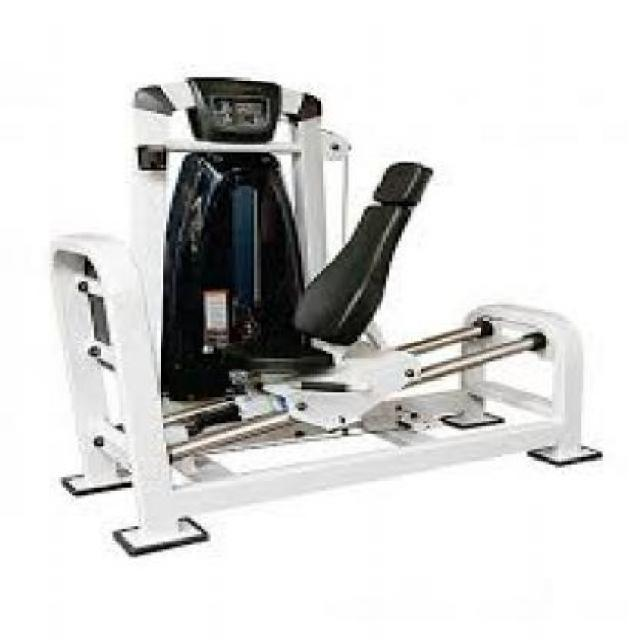leg press: (20, 62, 614, 583)
